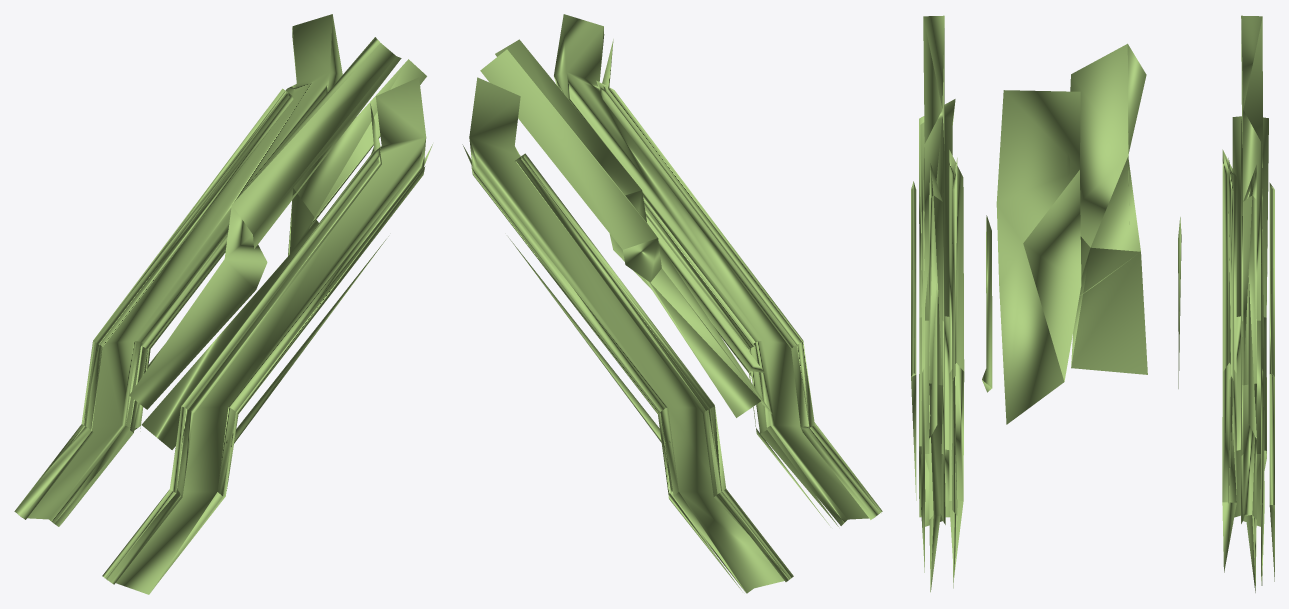
File: backdrop_lpad_support_a_lod5.glb
The picture shows the model from 3 angles, left to right: view 1: azimuth 30°, elevation 25°; view 2: azimuth 150°, elevation 25°; view 3: azimuth 270°, elevation 25°; orthographic projection. The views are drawn at different scales.
Size of the model in its own units: 186 by 230 by 95.13.
